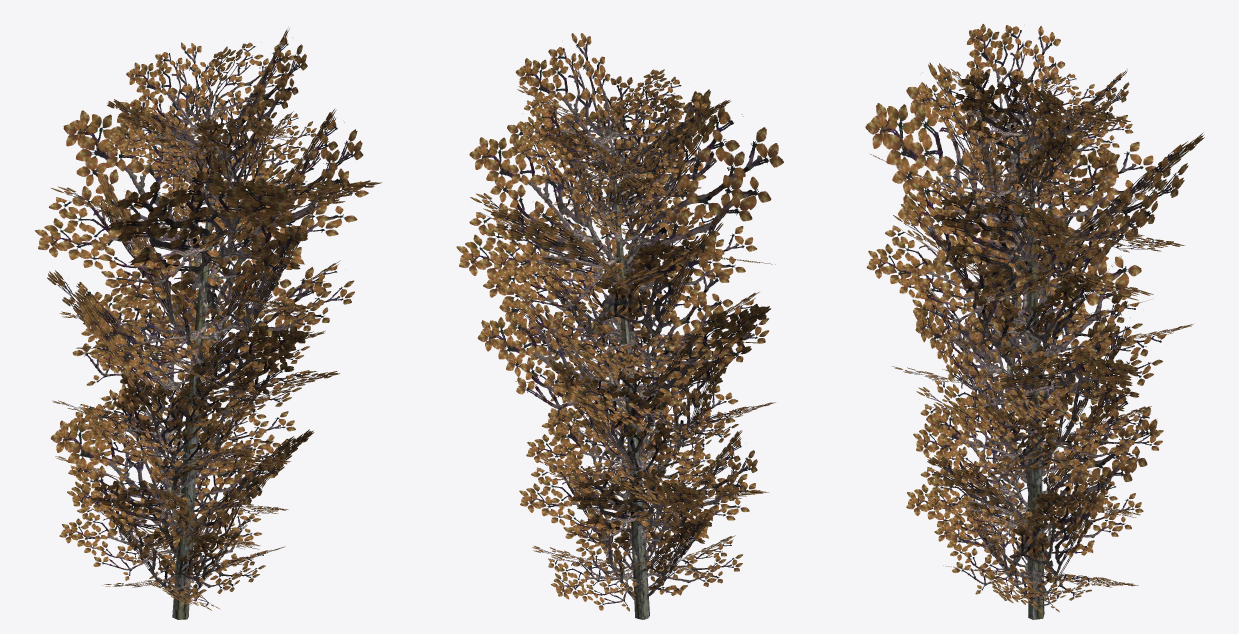
The model's file is flora_tree_temperate_autumn_v3.glb.
3 views of the same model, side by side, from view 1: azimuth 30°, elevation 25°; view 2: azimuth 150°, elevation 25°; view 3: azimuth 270°, elevation 25° (orthographic). The views are drawn at different scales.
Parts seen in each view (by area): view 1: flora_tree_temperate_autumn_v3_part0; view 2: flora_tree_temperate_autumn_v3_part0; view 3: flora_tree_temperate_autumn_v3_part0.
Boxes of the visible parts, x1=… form: flora_tree_temperate_autumn_v3_part0: x1=35, y1=29, x2=381, y2=619; flora_tree_temperate_autumn_v3_part0: x1=456, y1=33, x2=783, y2=619; flora_tree_temperate_autumn_v3_part0: x1=865, y1=24, x2=1204, y2=619.
Size of the model in its own units: 9.1 by 13.57 by 7.87.
1 material, 1 textured.
